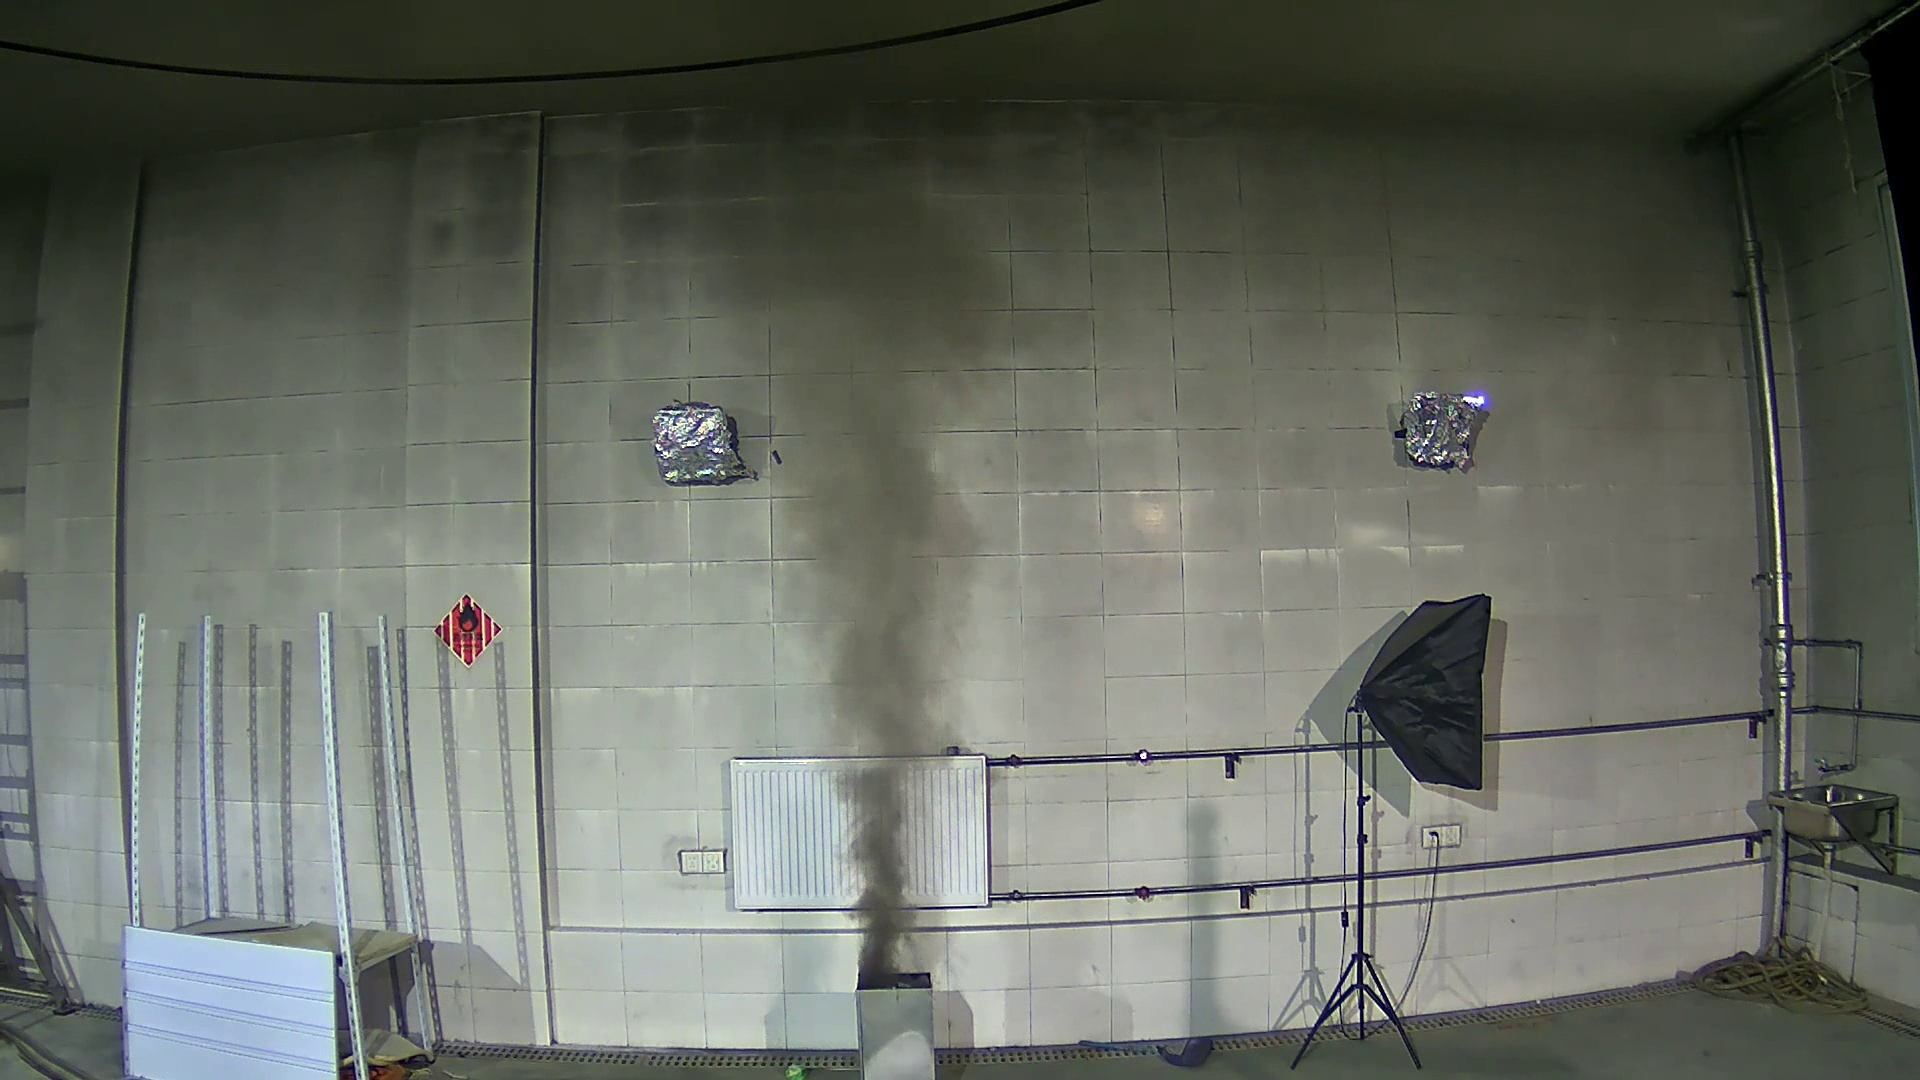smoke: (764, 368, 986, 982)
